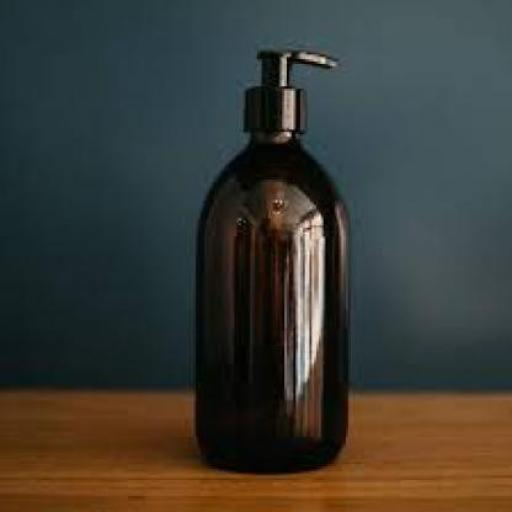glass: (191, 125, 348, 473)
plastic: (241, 45, 337, 130)
